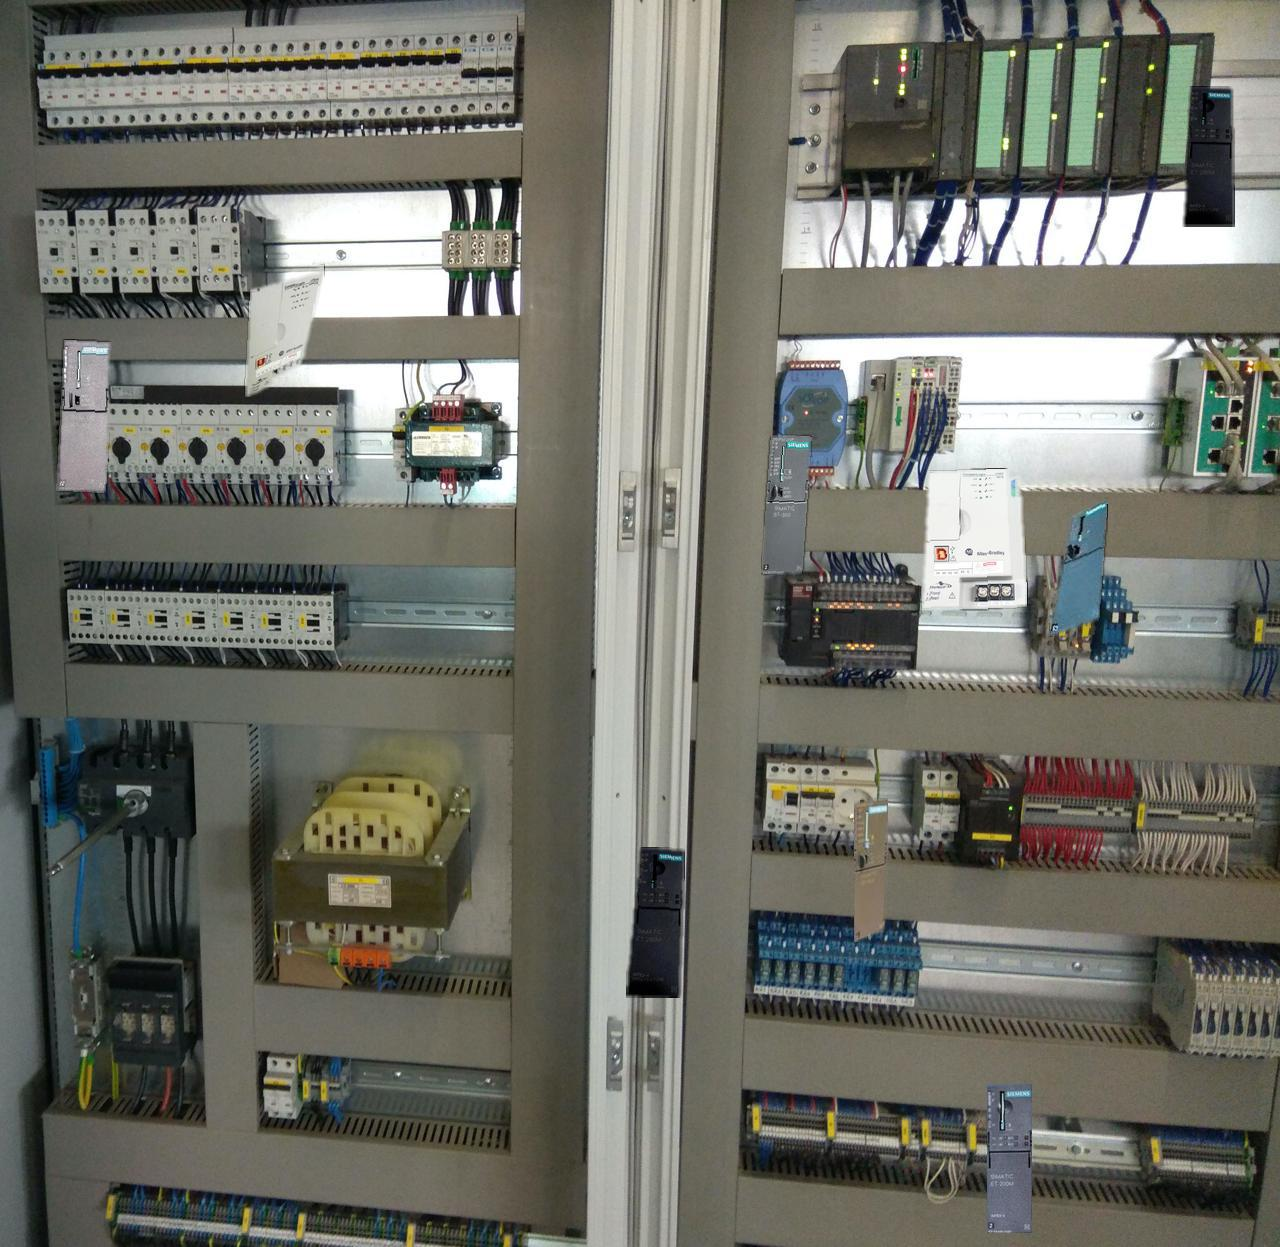AllenBradley: (922, 469, 1026, 608), (246, 265, 323, 395)
Siemens: (1049, 499, 1107, 636), (58, 339, 109, 491), (762, 435, 810, 573), (854, 798, 887, 941)
